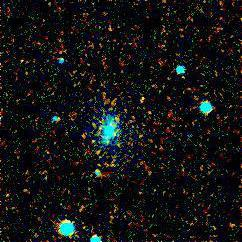star: (123, 88, 153, 118)
